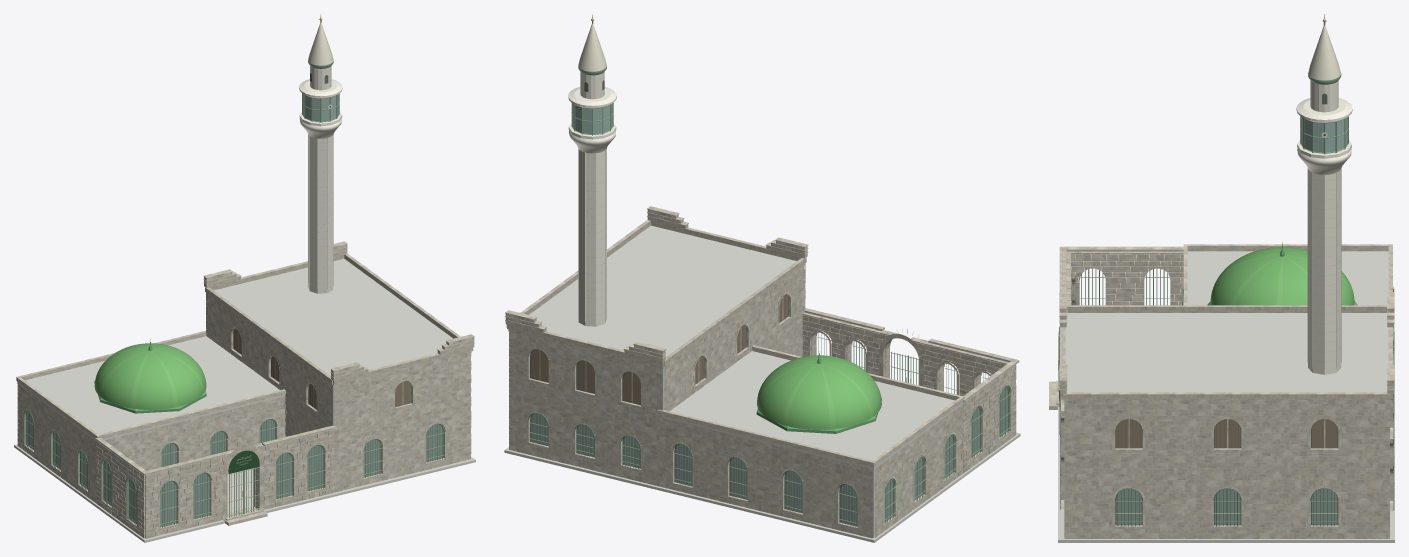
3 renders of one model, left to right at view 1: azimuth 30°, elevation 25°; view 2: azimuth 150°, elevation 25°; view 3: azimuth 270°, elevation 25°, orthographic. The views are drawn at different scales.
Visible parts, largest first — view 1: WhiteMosque - higher prayer hall flat stone roof, WhiteMosque - tall front coursed limestone, WhiteMosque - low prayer hall dressed stone walls, WhiteMosque - low hall flat stone roof, WhiteMosque - street entrance stone arcade wall, WhiteMosque - smooth green dome, WhiteMosque - inner courtyard high stone wall, WhiteMosque - tall slim octagonal minaret shaft, WhiteMosque - taller eastern prayer hall, WhiteMosque - street arched green grille windows glazing, WhiteMosque - courtyard outer left wall, WhiteMosque - low hall parapets (+24 smaller); view 2: WhiteMosque - higher prayer hall flat stone roof, WhiteMosque - low prayer hall dressed stone walls, WhiteMosque - rear taller hall limestone, WhiteMosque - low hall flat stone roof, WhiteMosque - smooth green dome, WhiteMosque - inner courtyard high stone wall, WhiteMosque - street entrance stone arcade wall, WhiteMosque - tall slim octagonal minaret shaft, WhiteMosque - low prayer hall arched windows glazing, WhiteMosque - taller eastern prayer hall, WhiteMosque - rear taller hall windows glazing, WhiteMosque - low dome prayer hall (+20 smaller); view 3: WhiteMosque - right hall coursed limestone, WhiteMosque - higher prayer hall flat stone roof, WhiteMosque - taller eastern prayer hall, WhiteMosque - tall slim octagonal minaret shaft, WhiteMosque - smooth green dome, WhiteMosque - high hall side parapet, WhiteMosque - right side arched windows glazing, WhiteMosque - courtyard outer left wall, WhiteMosque - low hall flat stone roof, WhiteMosque - building footing, WhiteMosque - right side arched windows dressed arch surroun, WhiteMosque - enclosed green-gray glazed gallery (+16 smaller).
Part boxes in pixels (<box>): WhiteMosque - higher prayer hall flat stone roof: <box>209,258,471,386</box>; WhiteMosque - tall front coursed limestone: <box>334,351,471,492</box>; WhiteMosque - low prayer hall dressed stone walls: <box>17,384,286,503</box>; WhiteMosque - low hall flat stone roof: <box>17,336,285,441</box>; WhiteMosque - street entrance stone arcade wall: <box>145,429,334,538</box>; WhiteMosque - smooth green dome: <box>94,343,206,409</box>; WhiteMosque - inner courtyard high stone wall: <box>206,293,331,436</box>; WhiteMosque - tall slim octagonal minaret shaft: <box>308,135,333,291</box>; WhiteMosque - taller eastern prayer hall: <box>207,296,470,489</box>; WhiteMosque - street arched green grille windows glazing: <box>160,445,323,526</box>; WhiteMosque - courtyard outer left wall: <box>96,441,145,538</box>; WhiteMosque - low hall parapets: <box>16,330,286,438</box>; WhiteMosque - higher prayer hall flat stone roof: <box>508,225,804,368</box>; WhiteMosque - low prayer hall dressed stone walls: <box>659,405,962,538</box>; WhiteMosque - rear taller hall limestone: <box>509,329,662,486</box>; WhiteMosque - low hall flat stone roof: <box>662,351,962,469</box>; WhiteMosque - smooth green dome: <box>757,355,881,429</box>; WhiteMosque - inner courtyard high stone wall: <box>664,263,805,411</box>; WhiteMosque - street entrance stone arcade wall: <box>801,312,1008,395</box>; WhiteMosque - tall slim octagonal minaret shaft: <box>578,149,606,324</box>; WhiteMosque - low prayer hall arched windows glazing: <box>675,435,953,526</box>; WhiteMosque - taller eastern prayer hall: <box>510,269,804,484</box>; WhiteMosque - rear taller hall windows glazing: <box>531,349,640,468</box>; WhiteMosque - low dome prayer hall: <box>661,408,961,537</box>; WhiteMosque - right hall coursed limestone: <box>1064,400,1389,538</box>; WhiteMosque - higher prayer hall flat stone roof: <box>1063,313,1391,402</box>; WhiteMosque - taller eastern prayer hall: <box>1064,402,1389,537</box>; WhiteMosque - tall slim octagonal minaret shaft: <box>1308,169,1341,372</box>; WhiteMosque - smooth green dome: <box>1210,247,1354,305</box>; WhiteMosque - high hall side parapet: <box>1063,305,1390,399</box>; WhiteMosque - right side arched windows glazing: <box>1116,419,1337,524</box>; WhiteMosque - courtyard outer left wall: <box>1071,251,1183,305</box>; WhiteMosque - low hall flat stone roof: <box>1187,251,1388,305</box>; WhiteMosque - building footing: <box>1058,331,1394,542</box>; WhiteMosque - right side arched windows dressed arch surroun: <box>1112,416,1340,528</box>; WhiteMosque - enclosed green-gray glazed gallery: <box>1301,117,1347,152</box>.
Bounding box in the file's own units: 30.55 × 33.9 × 21.4.
28 materials, 10 textured.
